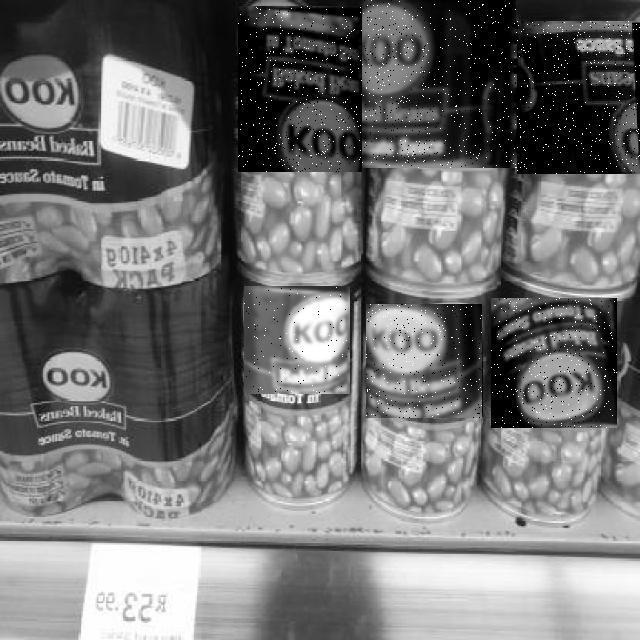Beans: (360, 0, 518, 168), (238, 6, 362, 172), (515, 21, 640, 174), (491, 298, 617, 428), (366, 305, 482, 419), (245, 286, 351, 394)
